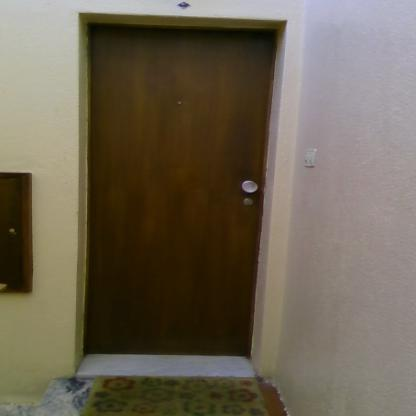door: (86, 24, 266, 366)
knob: (243, 178, 258, 196)
